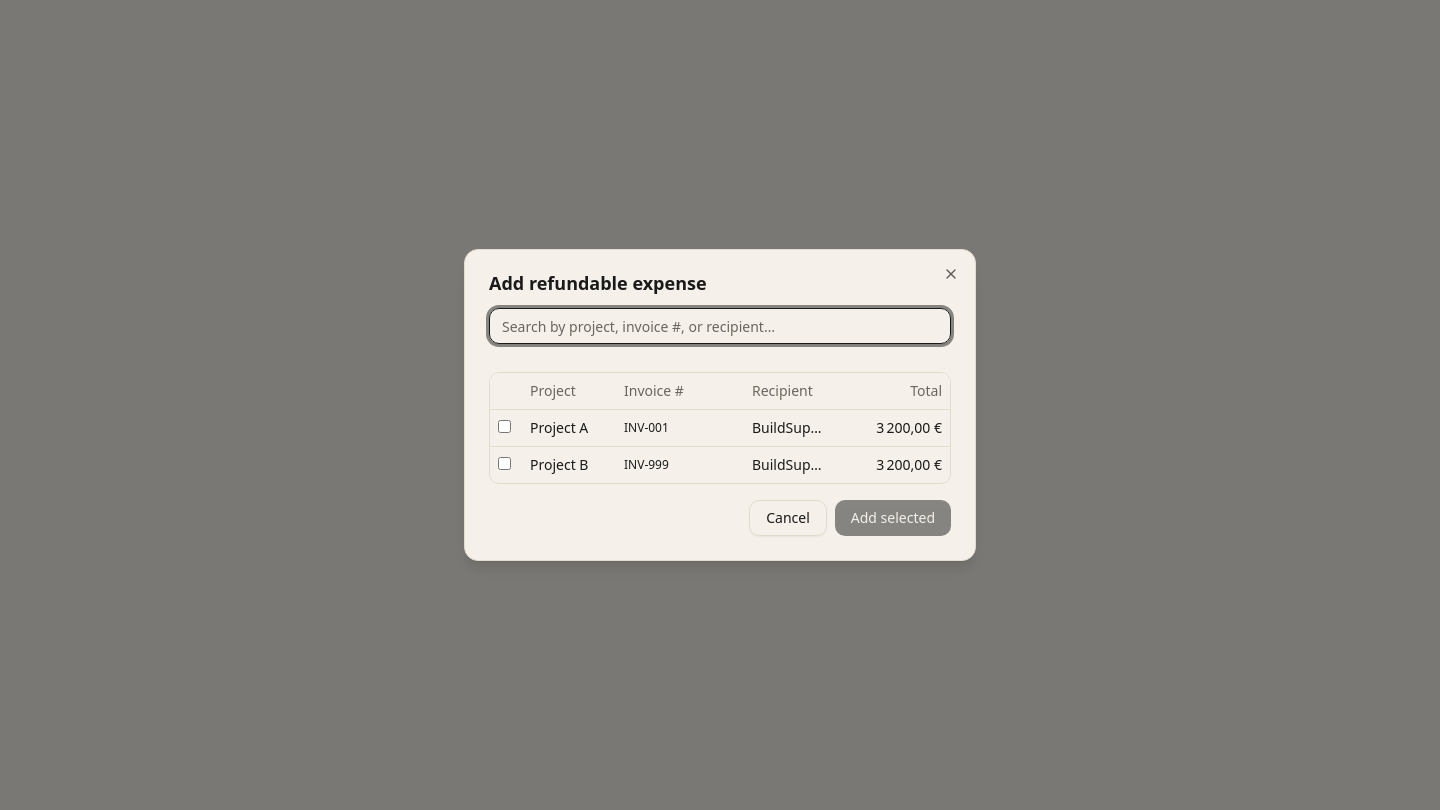
Test case: AddRefundableExpenseDialog › search filters rows by invoice number
The width and height of the screenshot is (1440, 810).
Expected: the text "INV-001" is shown, [616,410,744,446]
Type "999" into the field at point(720, 326), box [489,308,951,344]
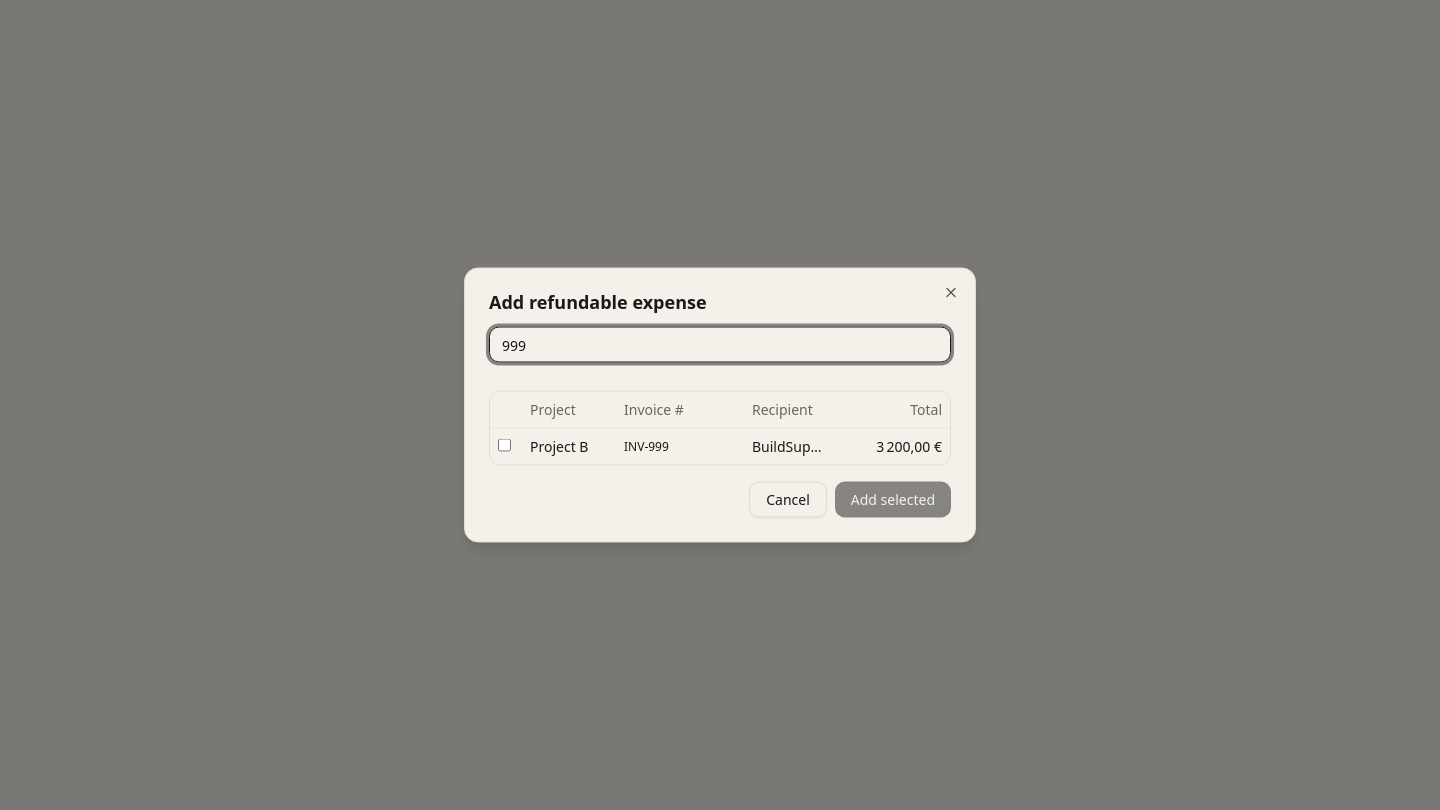
Expected: the text "INV-999" is shown, [616,428,744,464]
Expected: the text "INV-001" is gone
